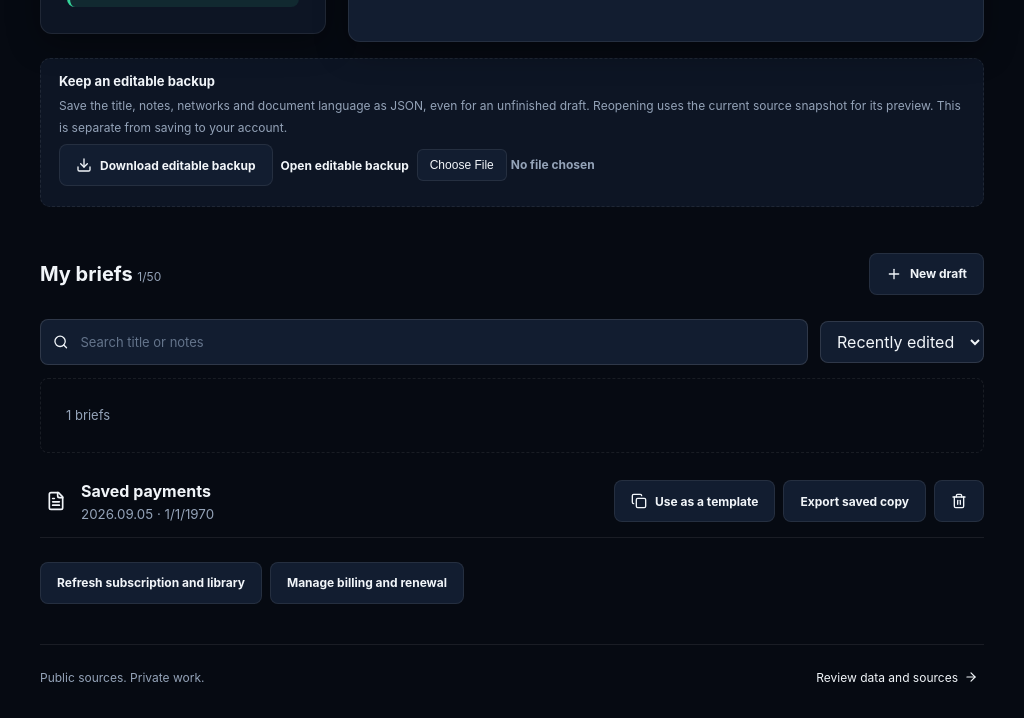
account onboarding and repeat-work UX › filters saved work and opens a reusable copy without changing its source ID
(page scrolled)
Expected: the button "Saved payments 2026.09.05 · 1/1/1970" is shown, [40,480,220,523]
Type "does not match" into the search field named "Search saved briefs". click: (437, 342)
box: [78,320,795,364]
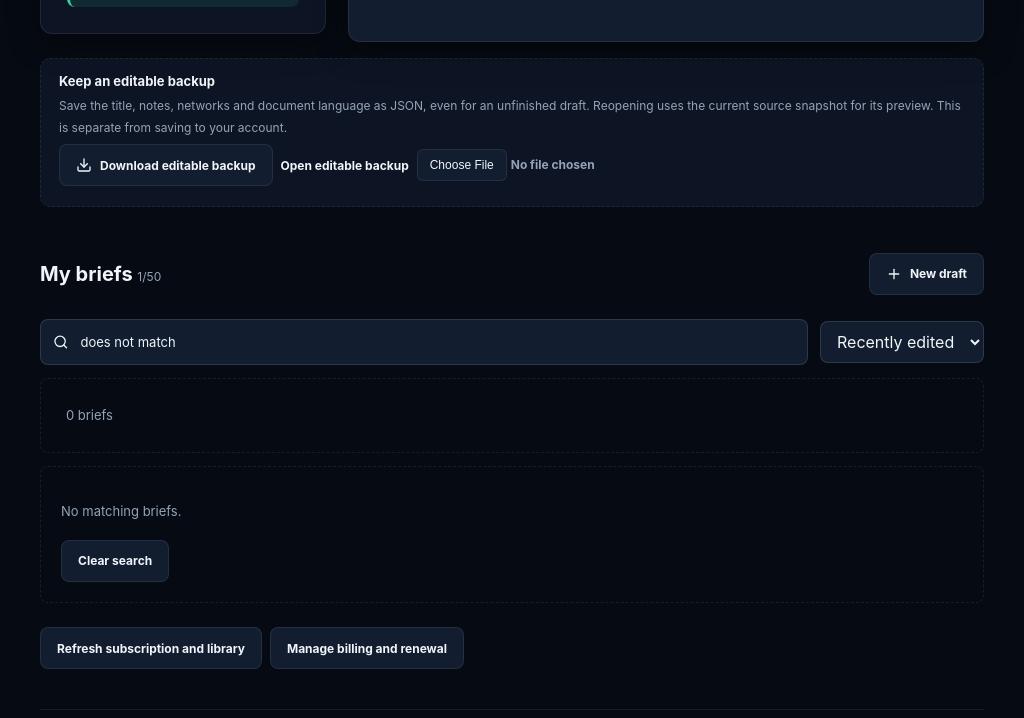
Expected: the text "No matching briefs." is shown, [61,503,182,519]
Click the button "Clear search". click: (115, 561)
box: [61,540,169,582]
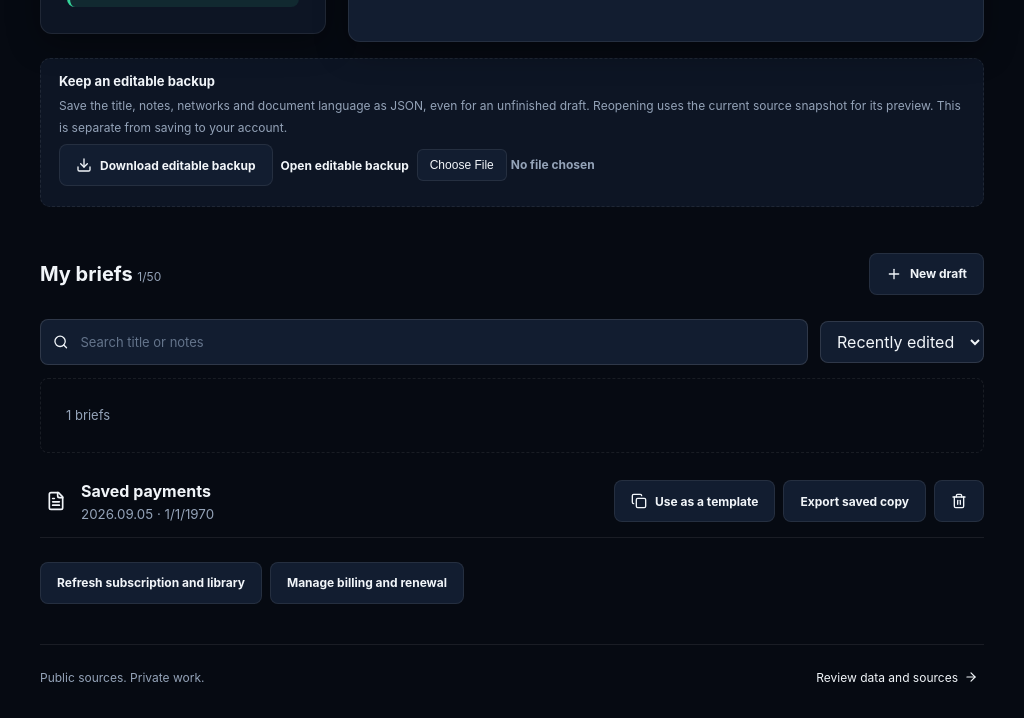
Click the button with aria-label "Duplicate Saved payments". click: (695, 501)
box: [614,480,775,522]
(page scrolled)
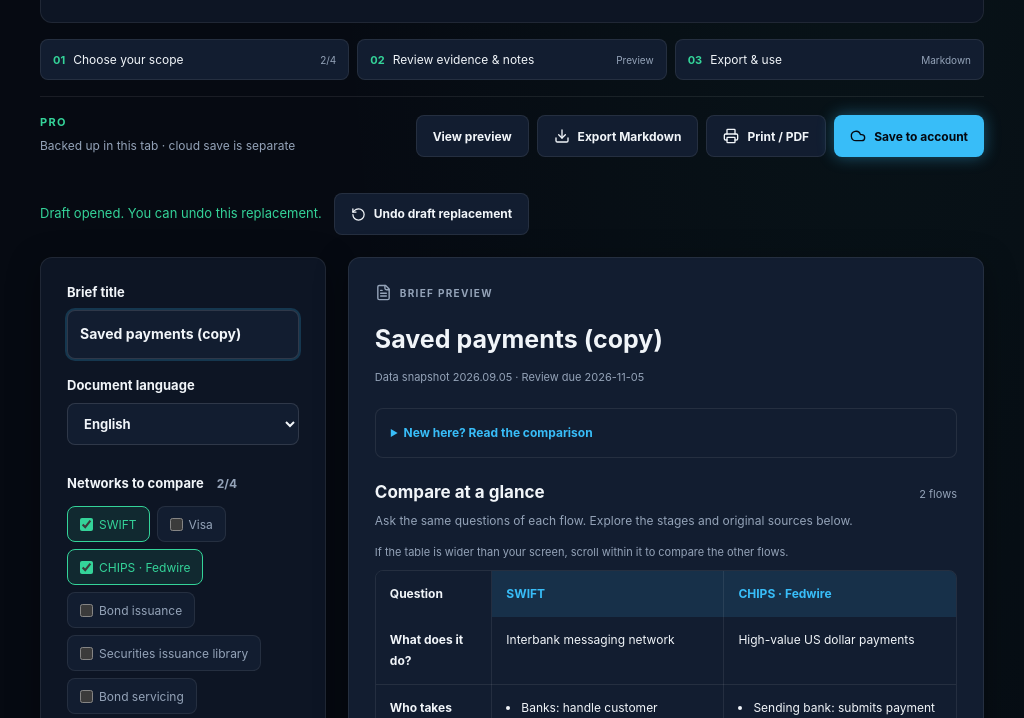
Expected: the field labelled "Brief title" holds "Saved payments (copy)", [67,310,299,358]
